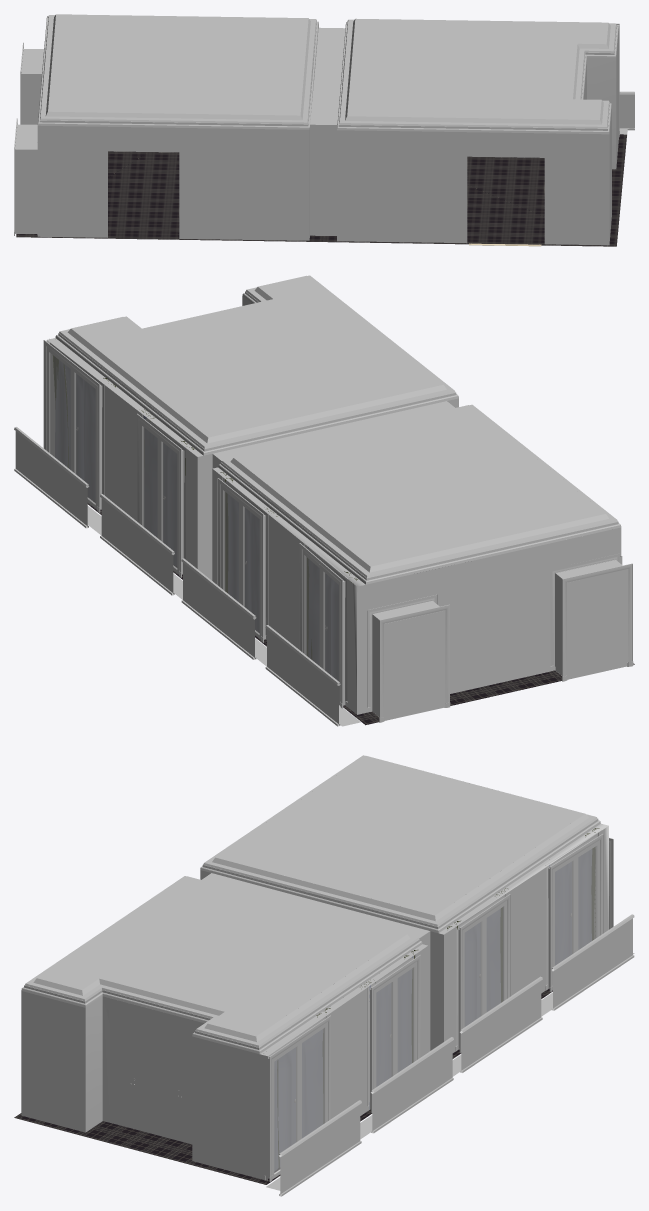
Rendered from SMZ_SalonMozart.fbx.
3 renders of one model, top to bottom at view 1: azimuth 30°, elevation 25°; view 2: azimuth 150°, elevation 25°; view 3: azimuth 270°, elevation 25°, orthographic. The views are drawn at different scales.
Parts seen in each view (by area): view 1: polySurface108, polySurface110, polySurface111; view 2: polySurface108, polySurface111, polySurface110, polySurface13; view 3: polySurface108, polySurface110, polySurface13, polySurface111.
Part boxes in pixels (box(x1,y1,x2,y2)): polySurface108: box(16, 14, 634, 246); polySurface110: box(37, 15, 618, 134); polySurface111: box(14, 14, 619, 235); polySurface108: box(14, 275, 634, 726); polySurface111: box(43, 338, 633, 722); polySurface110: box(55, 275, 621, 584); polySurface13: box(50, 353, 338, 681); polySurface108: box(14, 756, 634, 1196); polySurface110: box(21, 755, 600, 1053); polySurface13: box(274, 846, 596, 1172); polySurface111: box(264, 832, 613, 1181).
Size of the model in its own units: 1576 by 323 by 1304.
